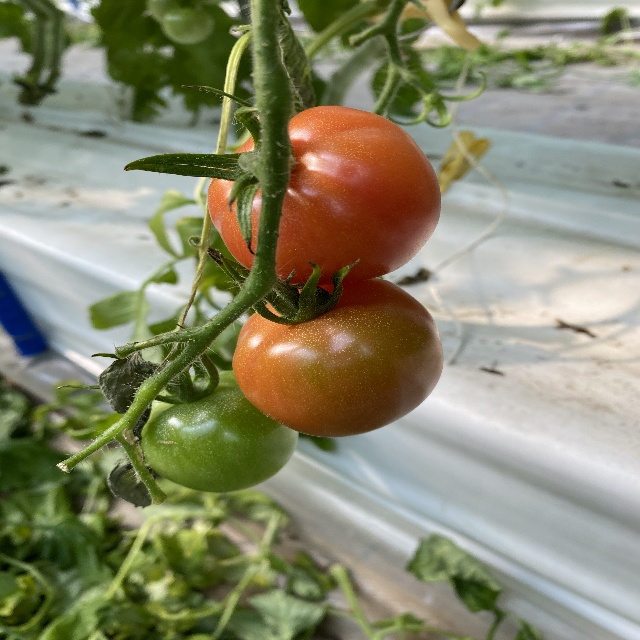l_fully_ripened: (207, 105, 442, 287)
l_green: (139, 369, 301, 493)
l_half_ripened: (233, 278, 445, 439)
